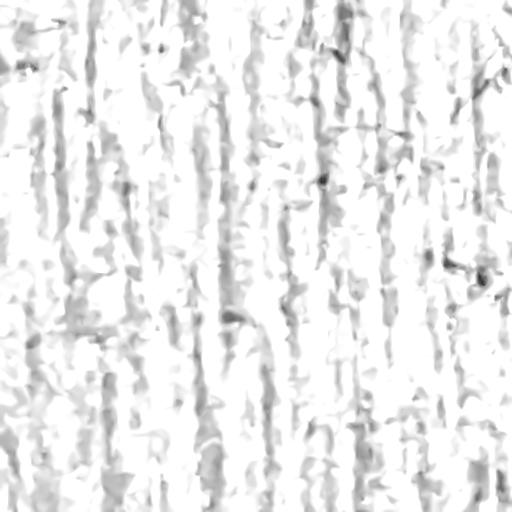egg: (329, 47, 344, 63)
